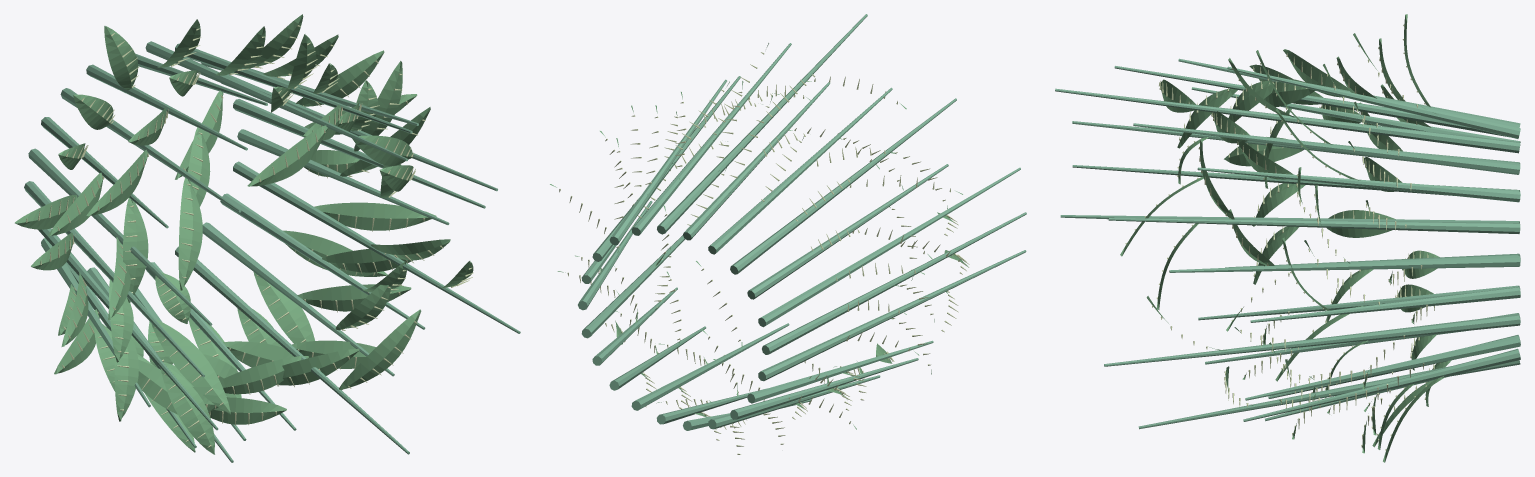
Rendered from Aquarion_Lagoon_Lily.glb.
The picture shows the model from 3 angles, left to right: view 1: azimuth 30°, elevation 25°; view 2: azimuth 150°, elevation 25°; view 3: azimuth 270°, elevation 25°; orthographic projection. The views are drawn at different scales.
Parts seen in each view (by area): view 1: Aquarion_Lagoon_Lily_stem21, Aquarion_Lagoon_Lily_blade21_0, Aquarion_Lagoon_Lily_blade11_2, Aquarion_Lagoon_Lily_stem18, Aquarion_Lagoon_Lily_stem5, Aquarion_Lagoon_Lily_blade8_2, Aquarion_Lagoon_Lily_blade18_2, Aquarion_Lagoon_Lily_stem19, Aquarion_Lagoon_Lily_blade12_2, Aquarion_Lagoon_Lily_stem1, Aquarion_Lagoon_Lily_stem20, Aquarion_Lagoon_Lily_blade19_0 (+59 smaller); view 2: Aquarion_Lagoon_Lily_stem5, Aquarion_Lagoon_Lily_stem12, Aquarion_Lagoon_Lily_stem11, Aquarion_Lagoon_Lily_stem10, Aquarion_Lagoon_Lily_stem8, Aquarion_Lagoon_Lily_stem4, Aquarion_Lagoon_Lily_stem9, Aquarion_Lagoon_Lily_stem7, Aquarion_Lagoon_Lily_stem6, Aquarion_Lagoon_Lily_stem14, Aquarion_Lagoon_Lily_stem3, Aquarion_Lagoon_Lily_stem13 (+8 smaller); view 3: Aquarion_Lagoon_Lily_stem5, Aquarion_Lagoon_Lily_stem21, Aquarion_Lagoon_Lily_stem2, Aquarion_Lagoon_Lily_stem4, Aquarion_Lagoon_Lily_stem1, Aquarion_Lagoon_Lily_stem3, Aquarion_Lagoon_Lily_stem6, Aquarion_Lagoon_Lily_stem19, Aquarion_Lagoon_Lily_stem20, Aquarion_Lagoon_Lily_stem0, Aquarion_Lagoon_Lily_stem8, Aquarion_Lagoon_Lily_stem18 (+21 smaller).
Part boxes in pixels (x1,y1,x2,y2): Aquarion_Lagoon_Lily_stem21: (233, 161, 520, 333); Aquarion_Lagoon_Lily_blade21_0: (314, 202, 436, 230); Aquarion_Lagoon_Lily_blade11_2: (151, 319, 230, 414); Aquarion_Lagoon_Lily_stem18: (175, 246, 409, 454); Aquarion_Lagoon_Lily_stem5: (145, 41, 407, 161); Aquarion_Lagoon_Lily_blade8_2: (178, 177, 202, 290); Aquarion_Lagoon_Lily_blade18_2: (339, 309, 421, 390); Aquarion_Lagoon_Lily_stem19: (202, 222, 394, 376); Aquarion_Lagoon_Lily_blade12_2: (161, 366, 214, 454); Aquarion_Lagoon_Lily_stem1: (233, 99, 485, 208); Aquarion_Lagoon_Lily_stem20: (220, 193, 425, 329); Aquarion_Lagoon_Lily_blade19_0: (253, 272, 314, 343); Aquarion_Lagoon_Lily_stem5: (657, 14, 867, 234); Aquarion_Lagoon_Lily_stem12: (758, 250, 1026, 381); Aquarion_Lagoon_Lily_stem11: (762, 212, 1026, 354); Aquarion_Lagoon_Lily_stem10: (758, 167, 1020, 327); Aquarion_Lagoon_Lily_stem8: (730, 98, 956, 274); Aquarion_Lagoon_Lily_stem4: (631, 43, 791, 235); Aquarion_Lagoon_Lily_stem9: (747, 164, 948, 299); Aquarion_Lagoon_Lily_stem7: (708, 87, 892, 254); Aquarion_Lagoon_Lily_stem6: (683, 82, 830, 240); Aquarion_Lagoon_Lily_stem14: (730, 358, 918, 419); Aquarion_Lagoon_Lily_stem3: (609, 79, 726, 245); Aquarion_Lagoon_Lily_stem13: (747, 340, 933, 403); Aquarion_Lagoon_Lily_stem5: (1055, 88, 1520, 153); Aquarion_Lagoon_Lily_stem21: (1104, 314, 1520, 366); Aquarion_Lagoon_Lily_stem2: (1108, 218, 1520, 233); Aquarion_Lagoon_Lily_stem4: (1133, 123, 1520, 174); Aquarion_Lagoon_Lily_stem1: (1169, 255, 1520, 272); Aquarion_Lagoon_Lily_stem3: (1197, 167, 1520, 202); Aquarion_Lagoon_Lily_stem6: (1227, 66, 1520, 138); Aquarion_Lagoon_Lily_stem19: (1243, 349, 1520, 421); Aquarion_Lagoon_Lily_stem20: (1245, 336, 1520, 400); Aquarion_Lagoon_Lily_stem0: (1250, 287, 1520, 322); Aquarion_Lagoon_Lily_stem8: (1114, 66, 1507, 136); Aquarion_Lagoon_Lily_stem18: (1138, 360, 1520, 429).
Bounding box in the file's own units: 2 × 1.91 × 2.03.
